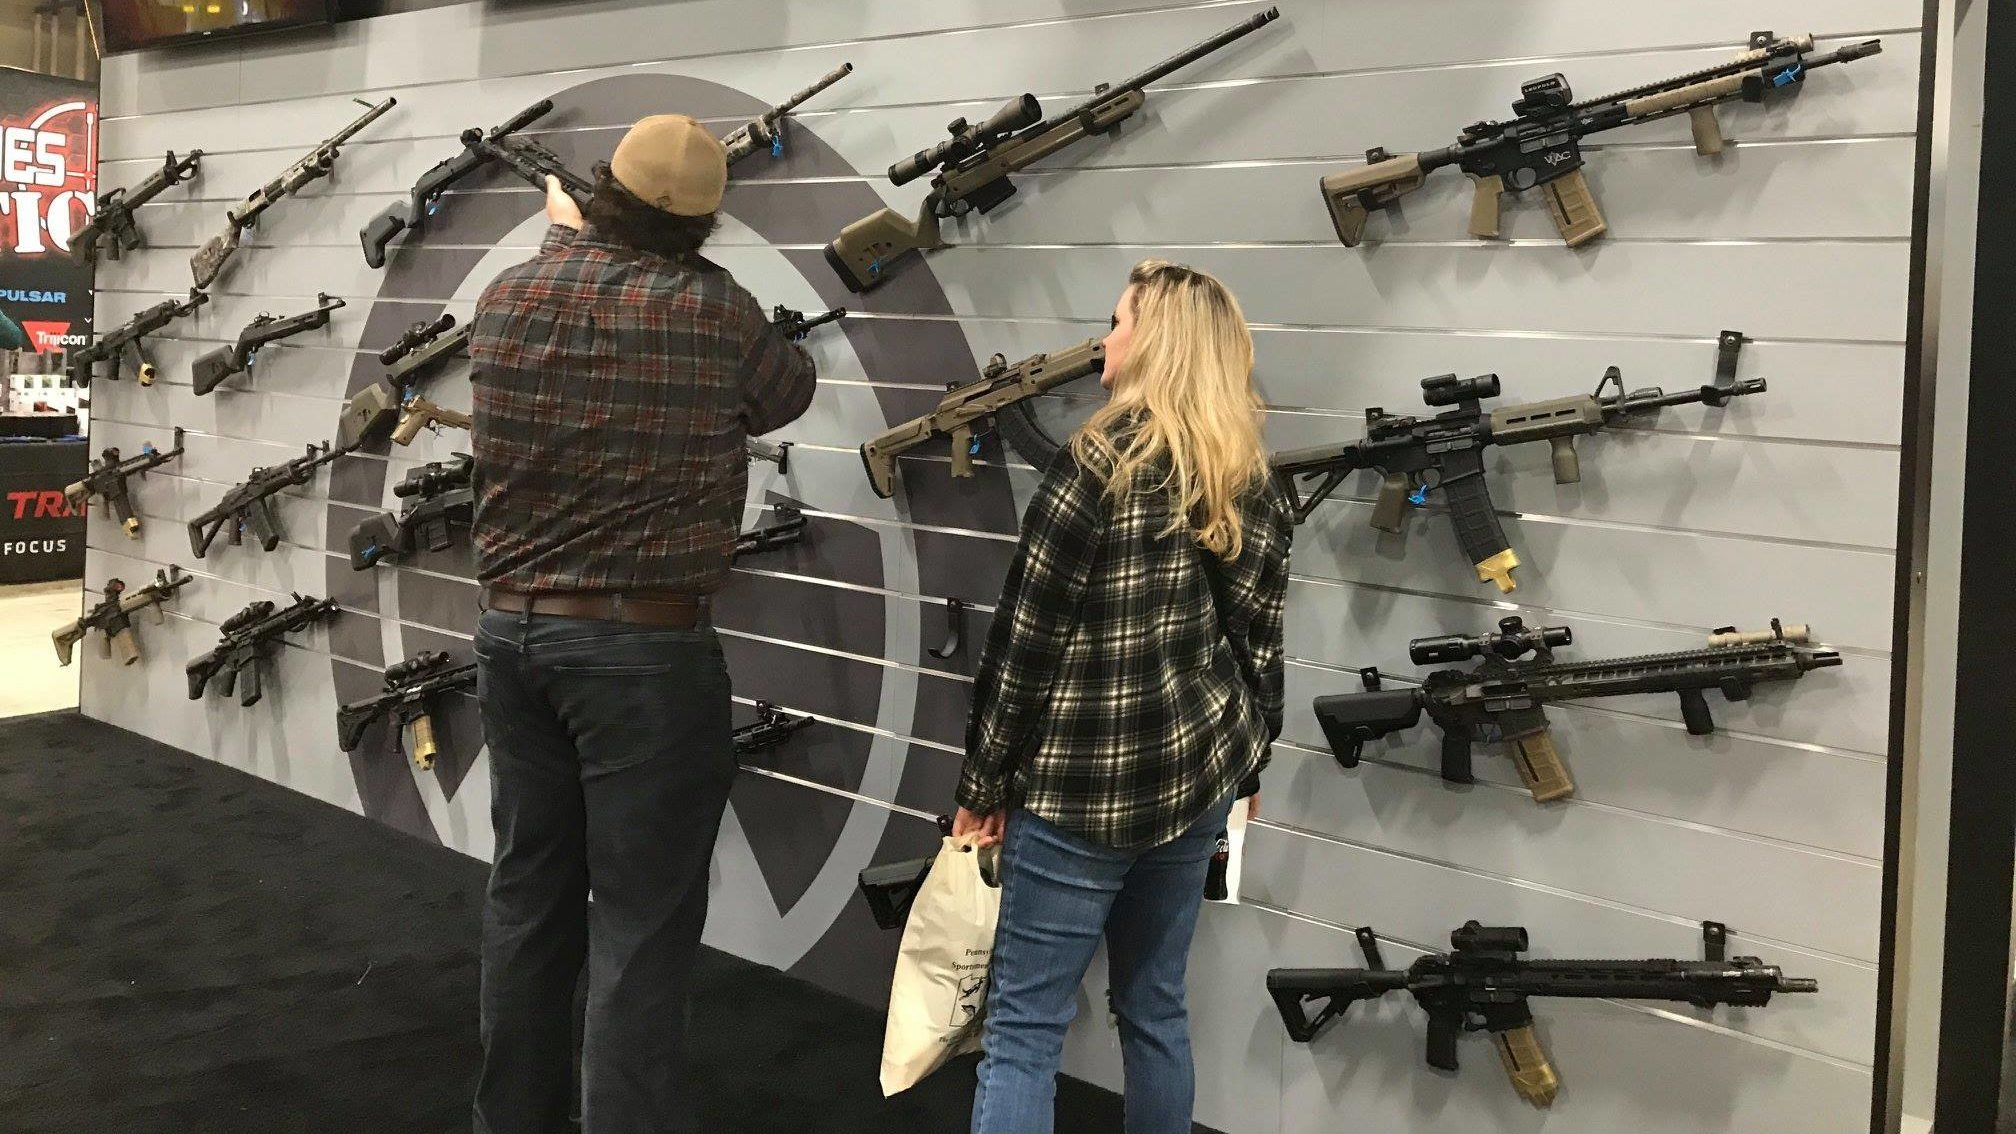Arma Real: (1321, 28, 1894, 291), (1248, 325, 1788, 601), (821, 1, 1290, 312), (1256, 915, 1936, 1117), (1325, 619, 1847, 816), (179, 83, 395, 291), (858, 336, 1133, 489), (370, 93, 562, 242), (152, 582, 345, 713), (325, 647, 482, 768), (55, 140, 208, 262), (331, 316, 485, 426), (170, 295, 339, 395), (51, 295, 215, 397), (48, 566, 197, 666), (60, 438, 188, 532)
